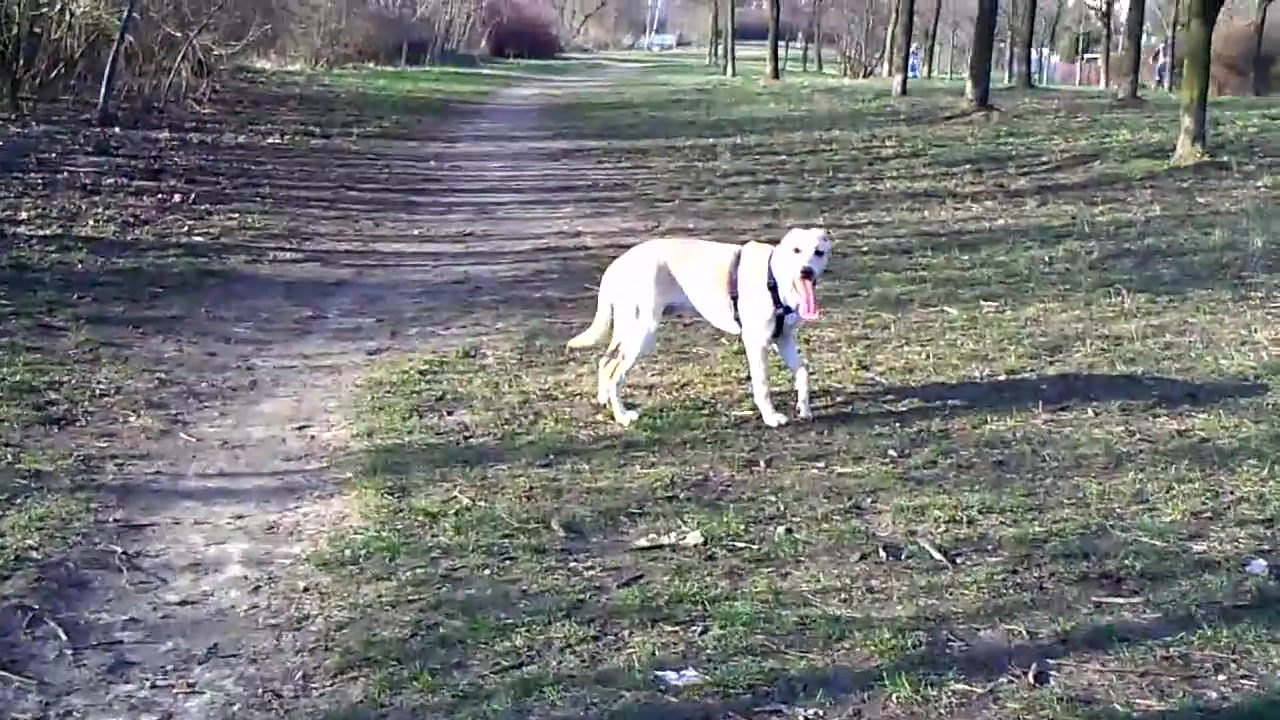dog: (566, 225, 839, 431)
